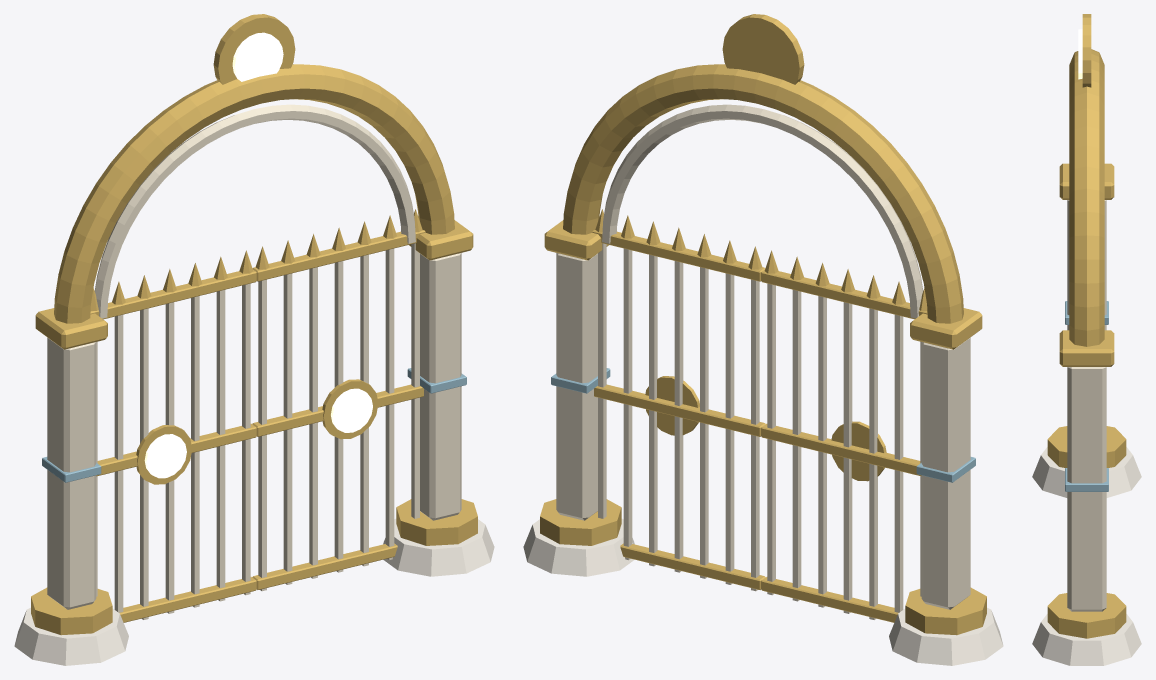
File: sky-gate.glb
3 renders of one model, left to right at view 1: azimuth 30°, elevation 25°; view 2: azimuth 150°, elevation 25°; view 3: azimuth 270°, elevation 25°, orthographic. The views are drawn at different scales.
Visible parts, largest first — view 1: sky_arch, sky_left_leaf, sky_right_leaf, sky_pillar_l, sky_pillar_r; view 2: sky_arch, sky_left_leaf, sky_right_leaf, sky_pillar_l, sky_pillar_r; view 3: sky_pillar_r, sky_arch, sky_pillar_l.
Part boxes in pixels (bbox=[...]): sky_arch: bbox=[54, 14, 454, 323]; sky_left_leaf: bbox=[252, 209, 425, 591]; sky_right_leaf: bbox=[90, 250, 256, 622]; sky_pillar_l: bbox=[14, 308, 128, 665]; sky_pillar_r: bbox=[383, 220, 494, 576]; sky_arch: bbox=[563, 14, 963, 323]; sky_left_leaf: bbox=[592, 209, 765, 591]; sky_right_leaf: bbox=[761, 250, 927, 622]; sky_pillar_l: bbox=[889, 308, 1003, 665]; sky_pillar_r: bbox=[523, 220, 634, 576]; sky_pillar_r: bbox=[1032, 330, 1141, 665]; sky_arch: bbox=[1069, 14, 1104, 346]; sky_pillar_l: bbox=[1032, 163, 1141, 497].
Bounding box in the file's own units: 6.83 × 8.19 × 1.5.
